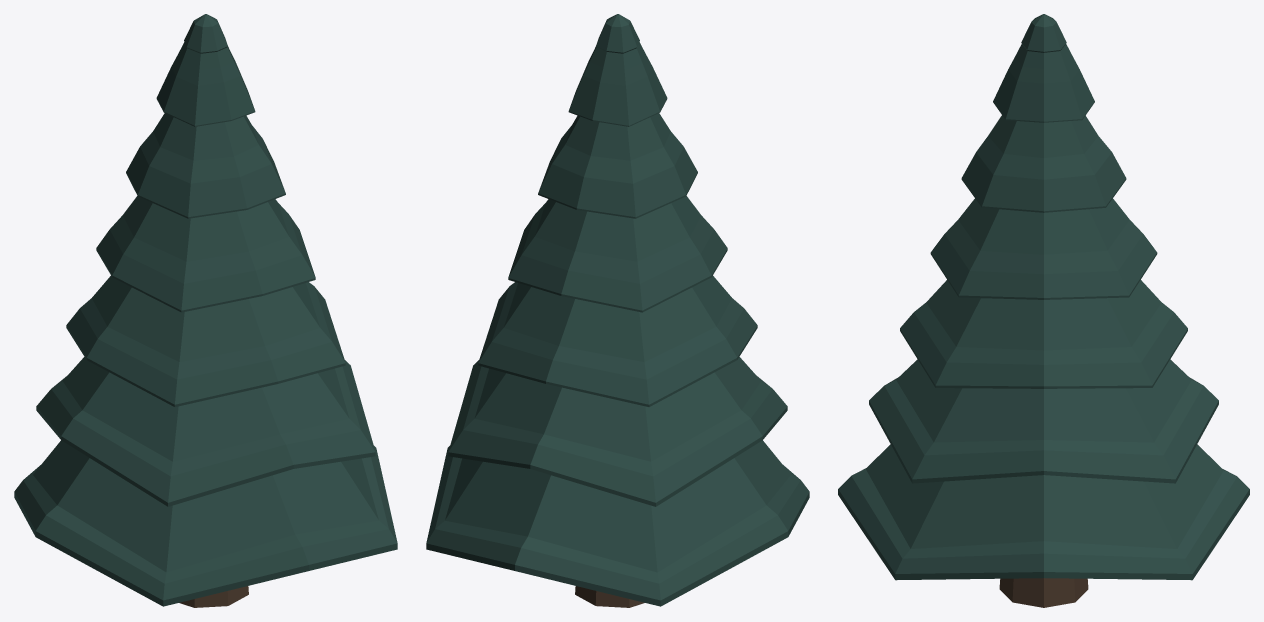
The model's file is SM_tree3.fbx.
The picture shows the model from 3 angles, left to right: view 1: azimuth 30°, elevation 25°; view 2: azimuth 150°, elevation 25°; view 3: azimuth 270°, elevation 25°; orthographic projection.
Visible parts, largest first — view 1: SM_tree3; view 2: SM_tree3; view 3: SM_tree3.
Part boxes in pixels (x1,y1,x2,y2): SM_tree3: [14, 14, 397, 607]; SM_tree3: [426, 14, 809, 607]; SM_tree3: [838, 14, 1249, 607].
Bounding box in the file's own units: 4.47 × 7.21 × 4.68.
Materials: 1 (1 with a texture image).
